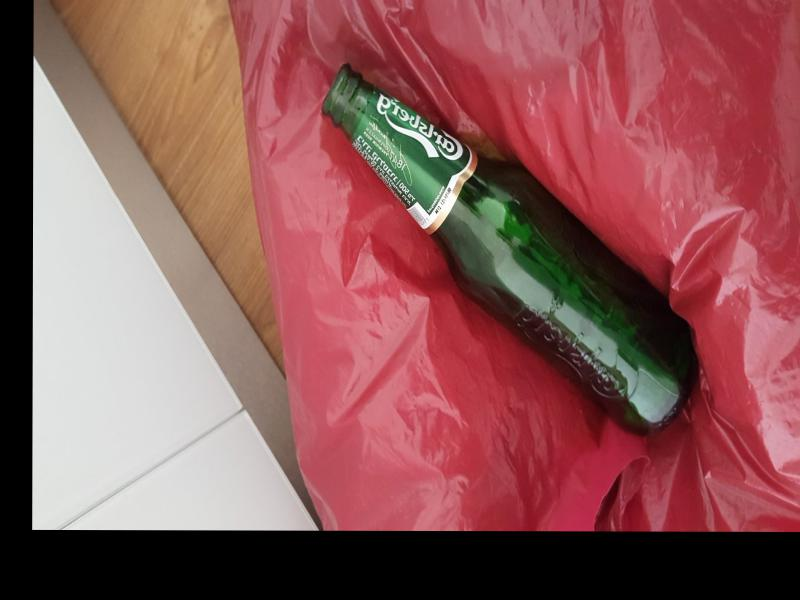Beer: (321, 63, 697, 431)
